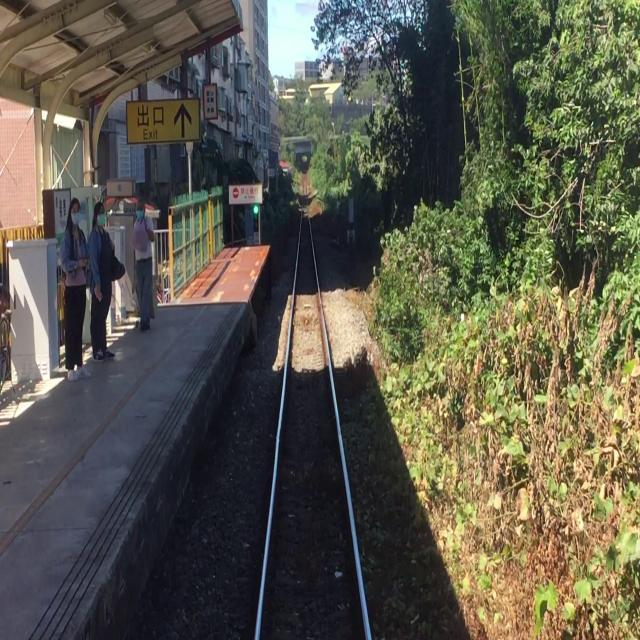track: (252, 185, 381, 637)
